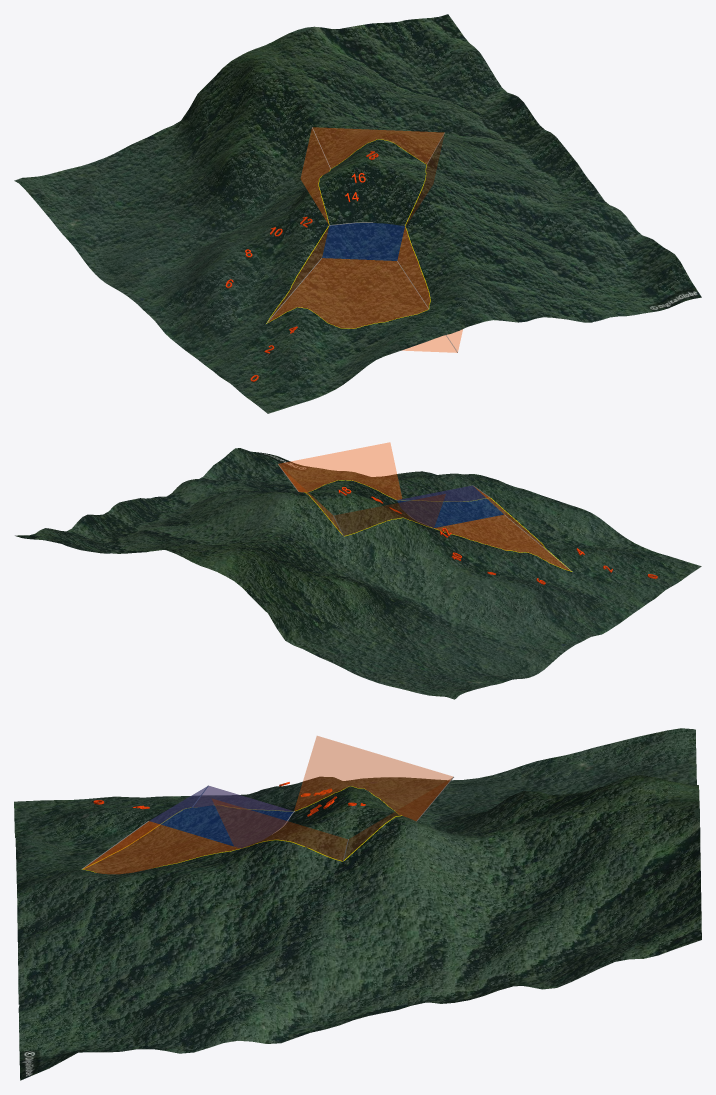
Rendered from curva13Nc1.glb.
The picture shows the model from 3 angles, top to bottom: view 1: azimuth 30°, elevation 25°; view 2: azimuth 150°, elevation 25°; view 3: azimuth 270°, elevation 25°; orthographic projection. The views are drawn at different scales.
Parts seen in each view (by area): view 1: root, object 3; view 2: root, object 3, object 2; view 3: root, object 3.
Part boxes in pixels (x1,y1,x2,y2): root: (14, 14, 701, 413); object 3: (268, 127, 462, 352); root: (15, 448, 701, 699); object 3: (278, 442, 569, 570); object 2: (338, 487, 657, 584); root: (14, 728, 701, 1080); object 3: (83, 736, 452, 873).
Size of the model in its own units: 2019 by 576 by 2004.
Materials: 7 (1 with a texture image).
